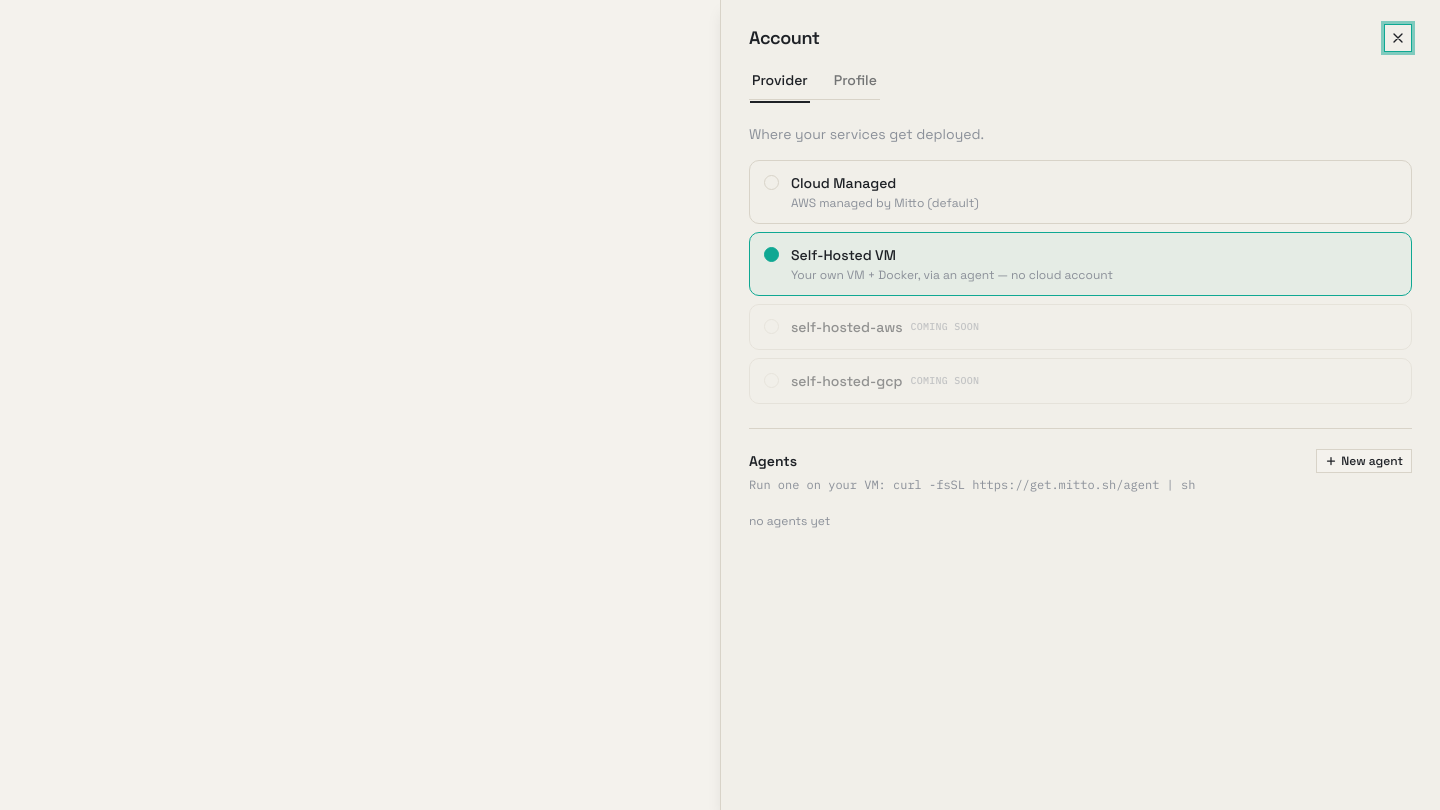
it: AccountPanel › creates an agent and shows the token once
Click the button "New agent" at (1364, 461), box [1316,449,1412,473]
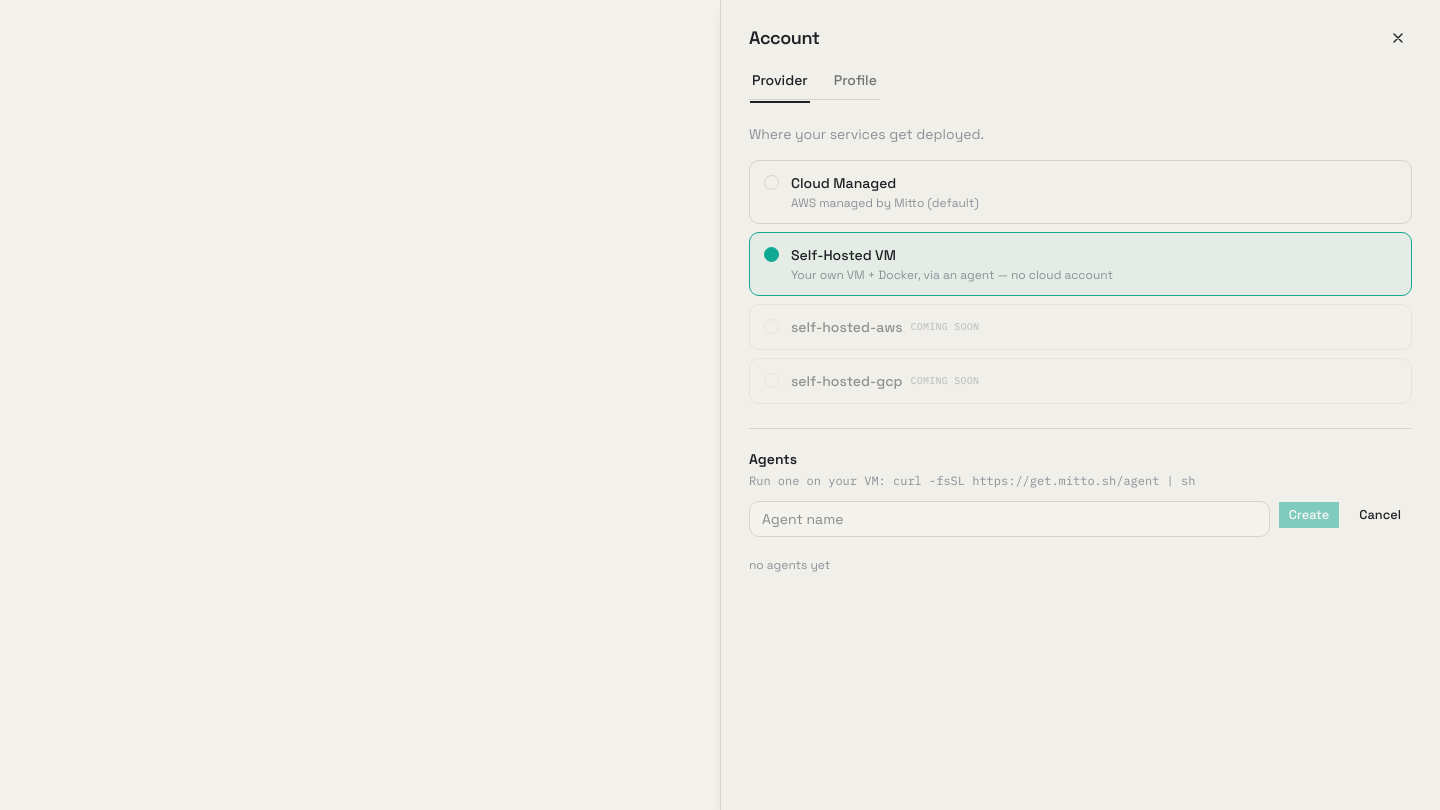
Now the button "Create" is disabled, box [1278,501,1340,529]
Click the button "Cancel" at (1380, 515), box [1348,501,1412,529]
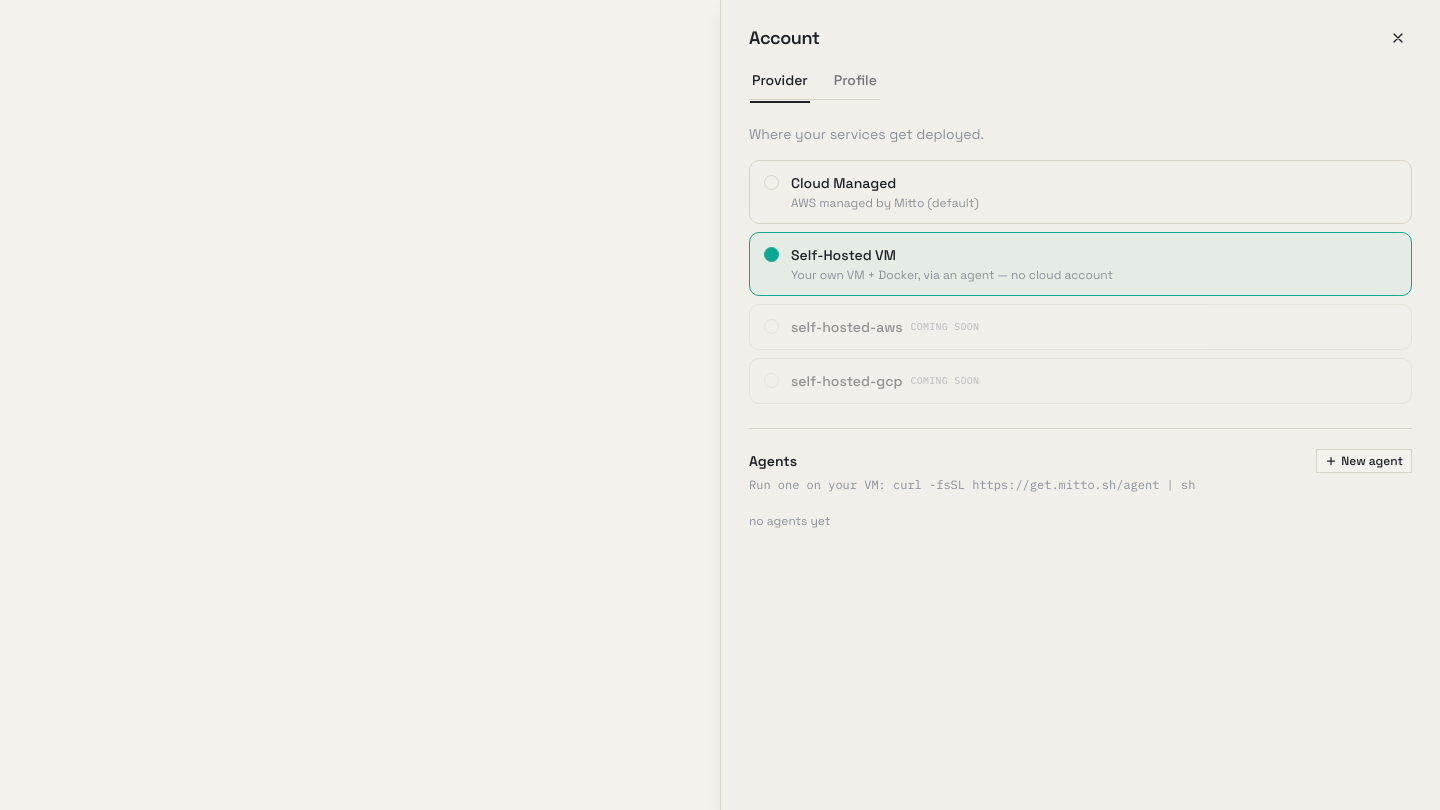
Click the button "New agent" at (1364, 461), box [1316,449,1412,473]
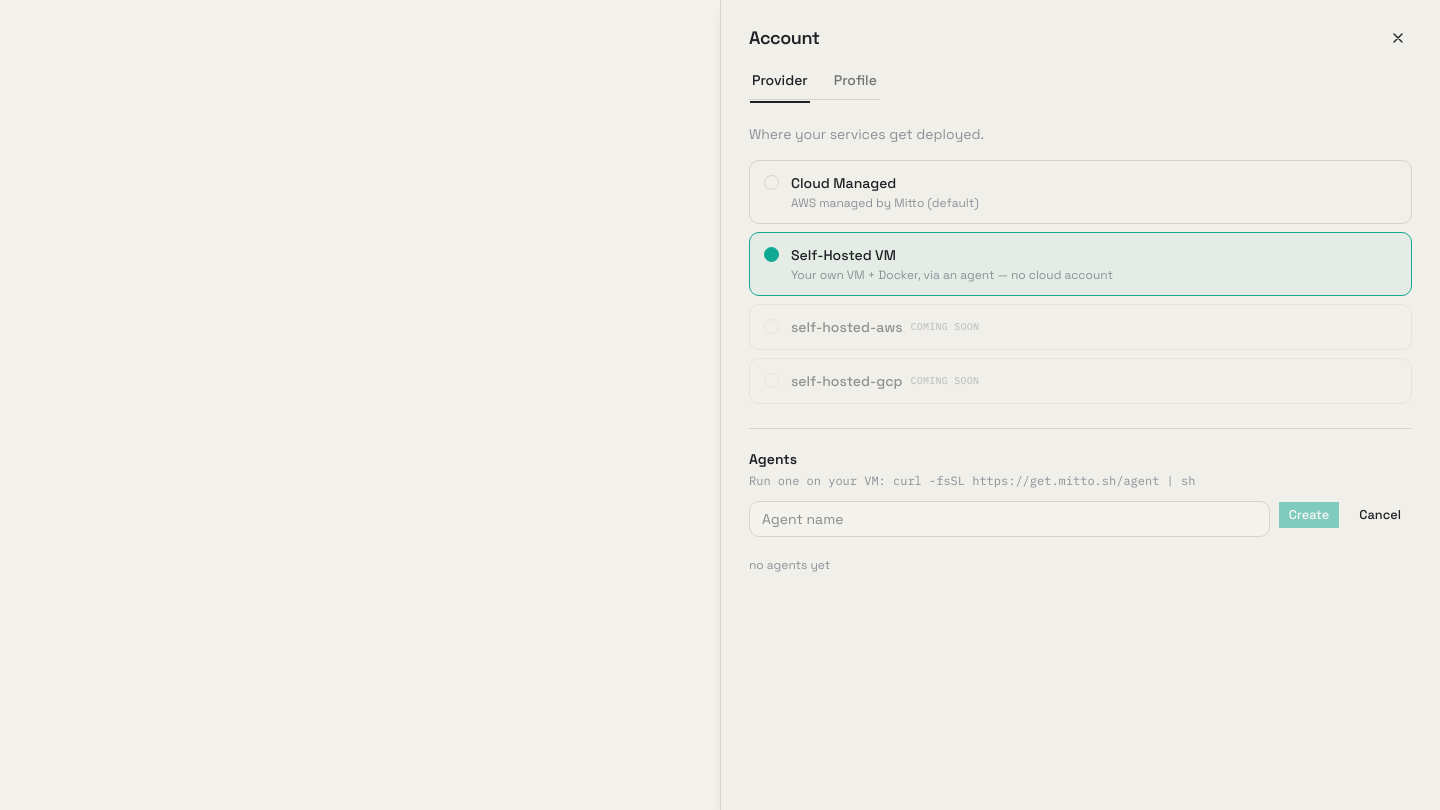
Type "laptop" into the field with placeholder "Agent name" at (1009, 519), box [749,501,1270,537]
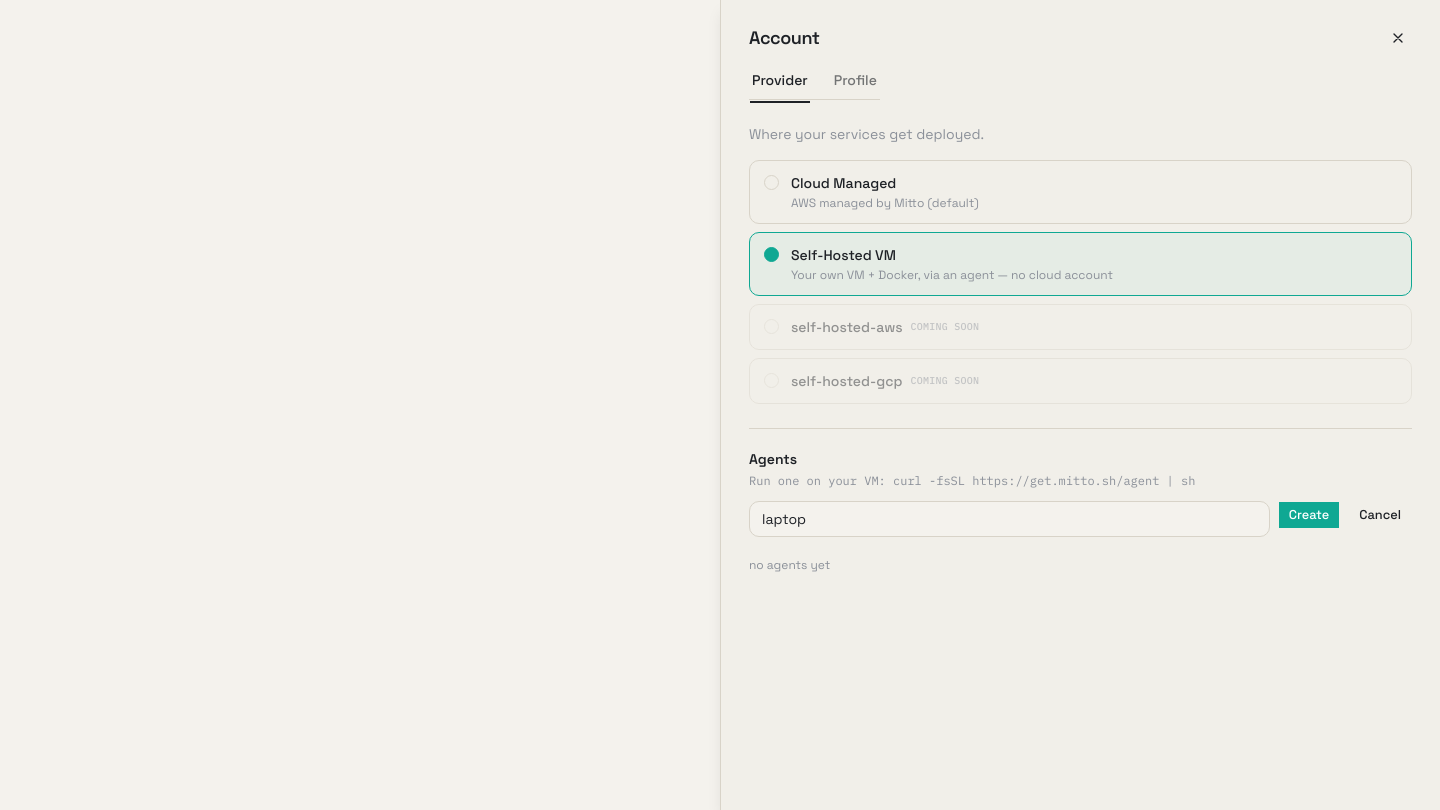
Click the button "Create" at (1309, 515), box [1278,501,1340,529]
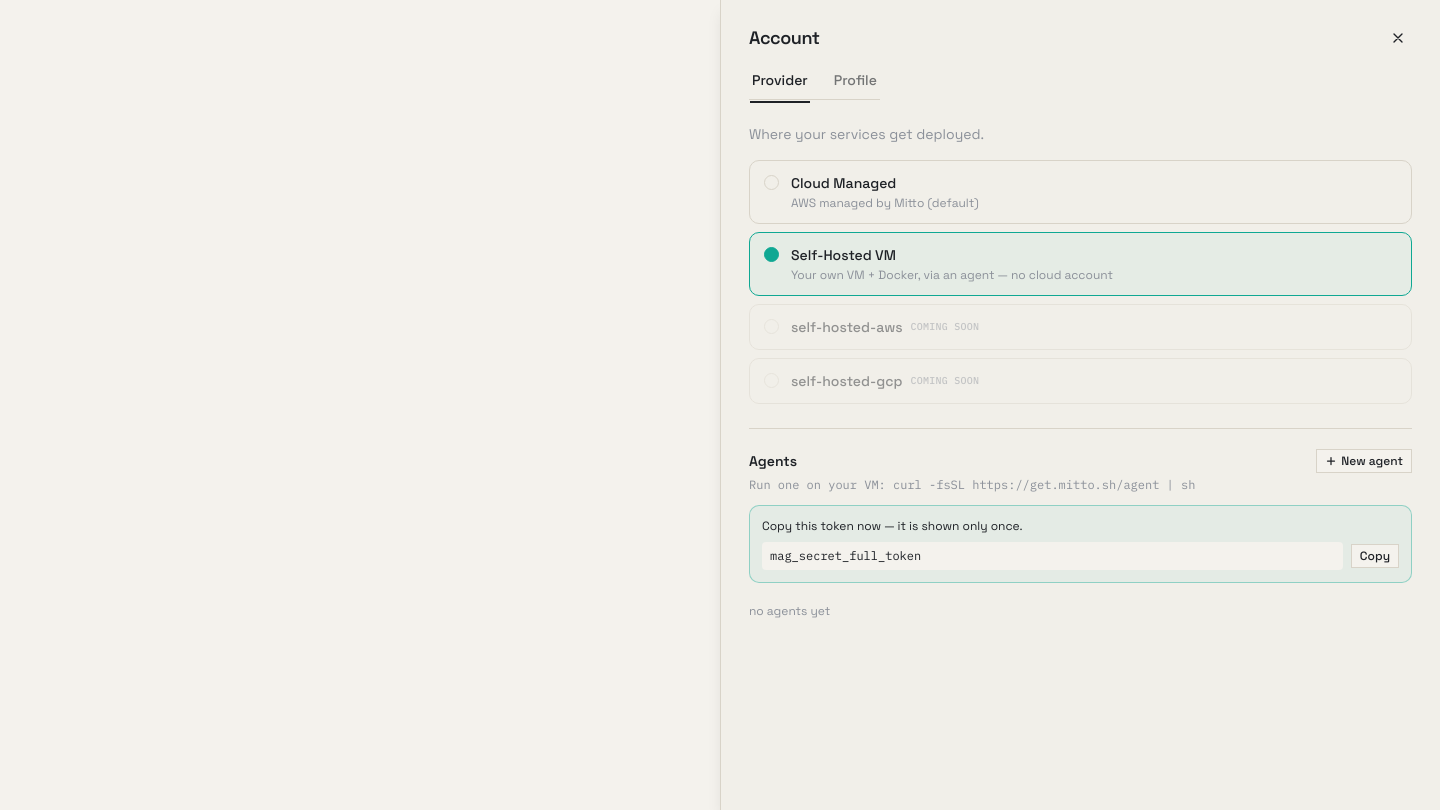
Now the text "mag_secret_full_token" is shown, box [762,542,1343,570]
Now the text "Copy this token now — it is shown only once." is shown, box [762,518,1023,534]
